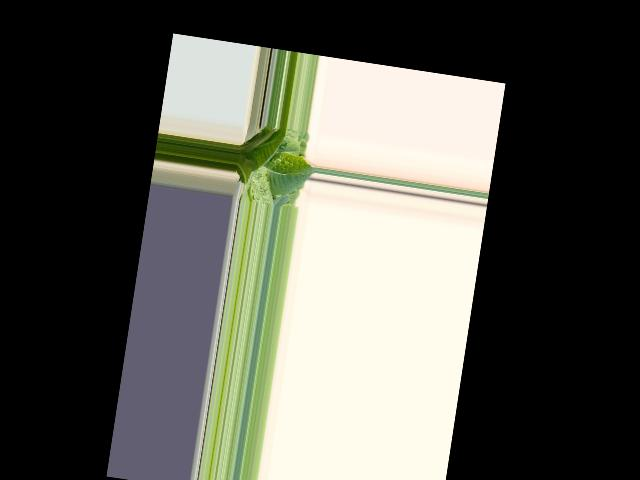lettuce: (232, 123, 313, 202)
